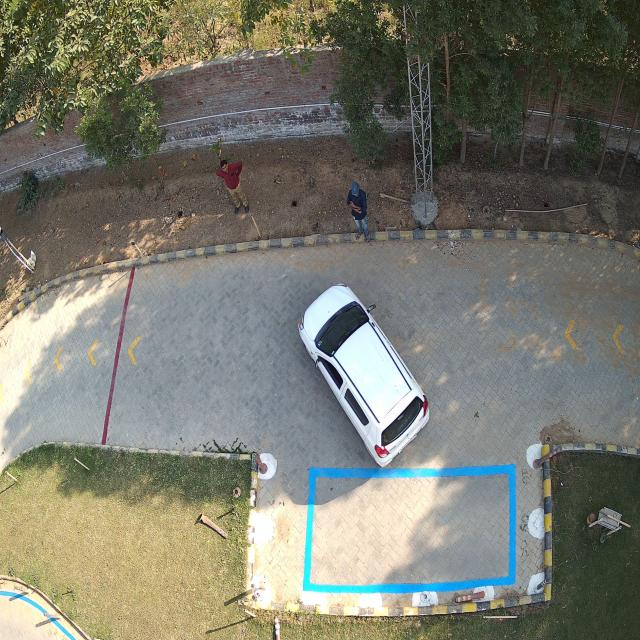car: (298, 282, 431, 467)
